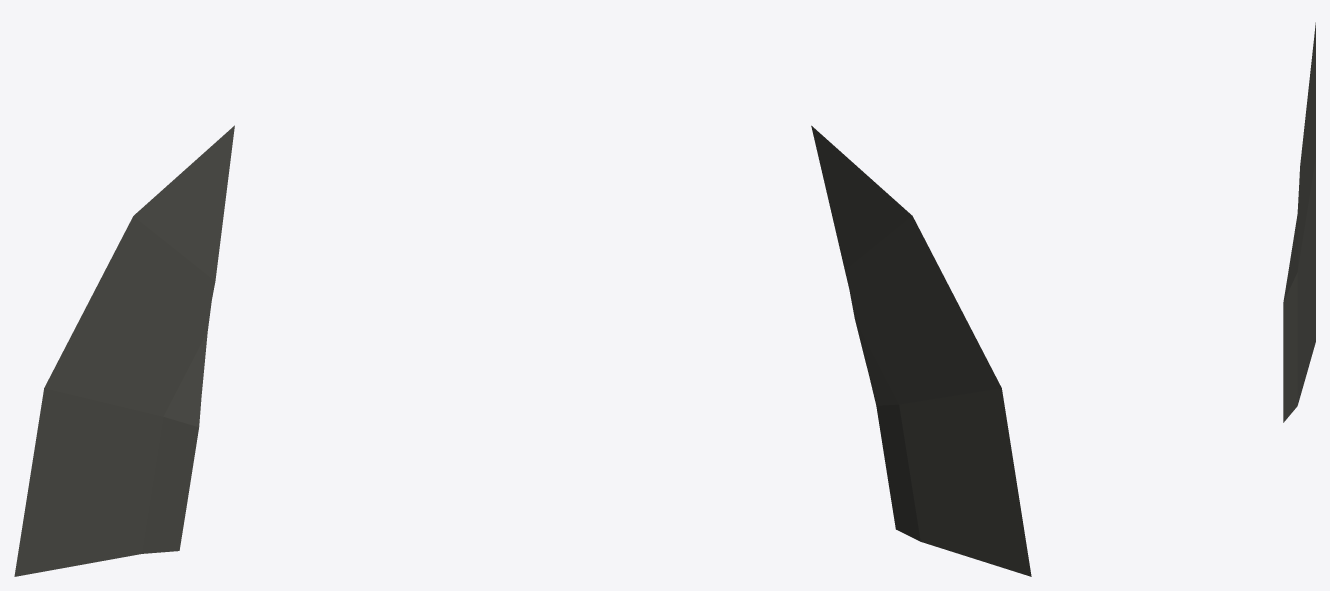
The picture shows the model from 3 angles, left to right: view 1: azimuth 30°, elevation 25°; view 2: azimuth 150°, elevation 25°; view 3: azimuth 270°, elevation 25°; orthographic projection. The views are drawn at different scales.
Size of the model in its own units: 1 by 1 by 0.4601.
